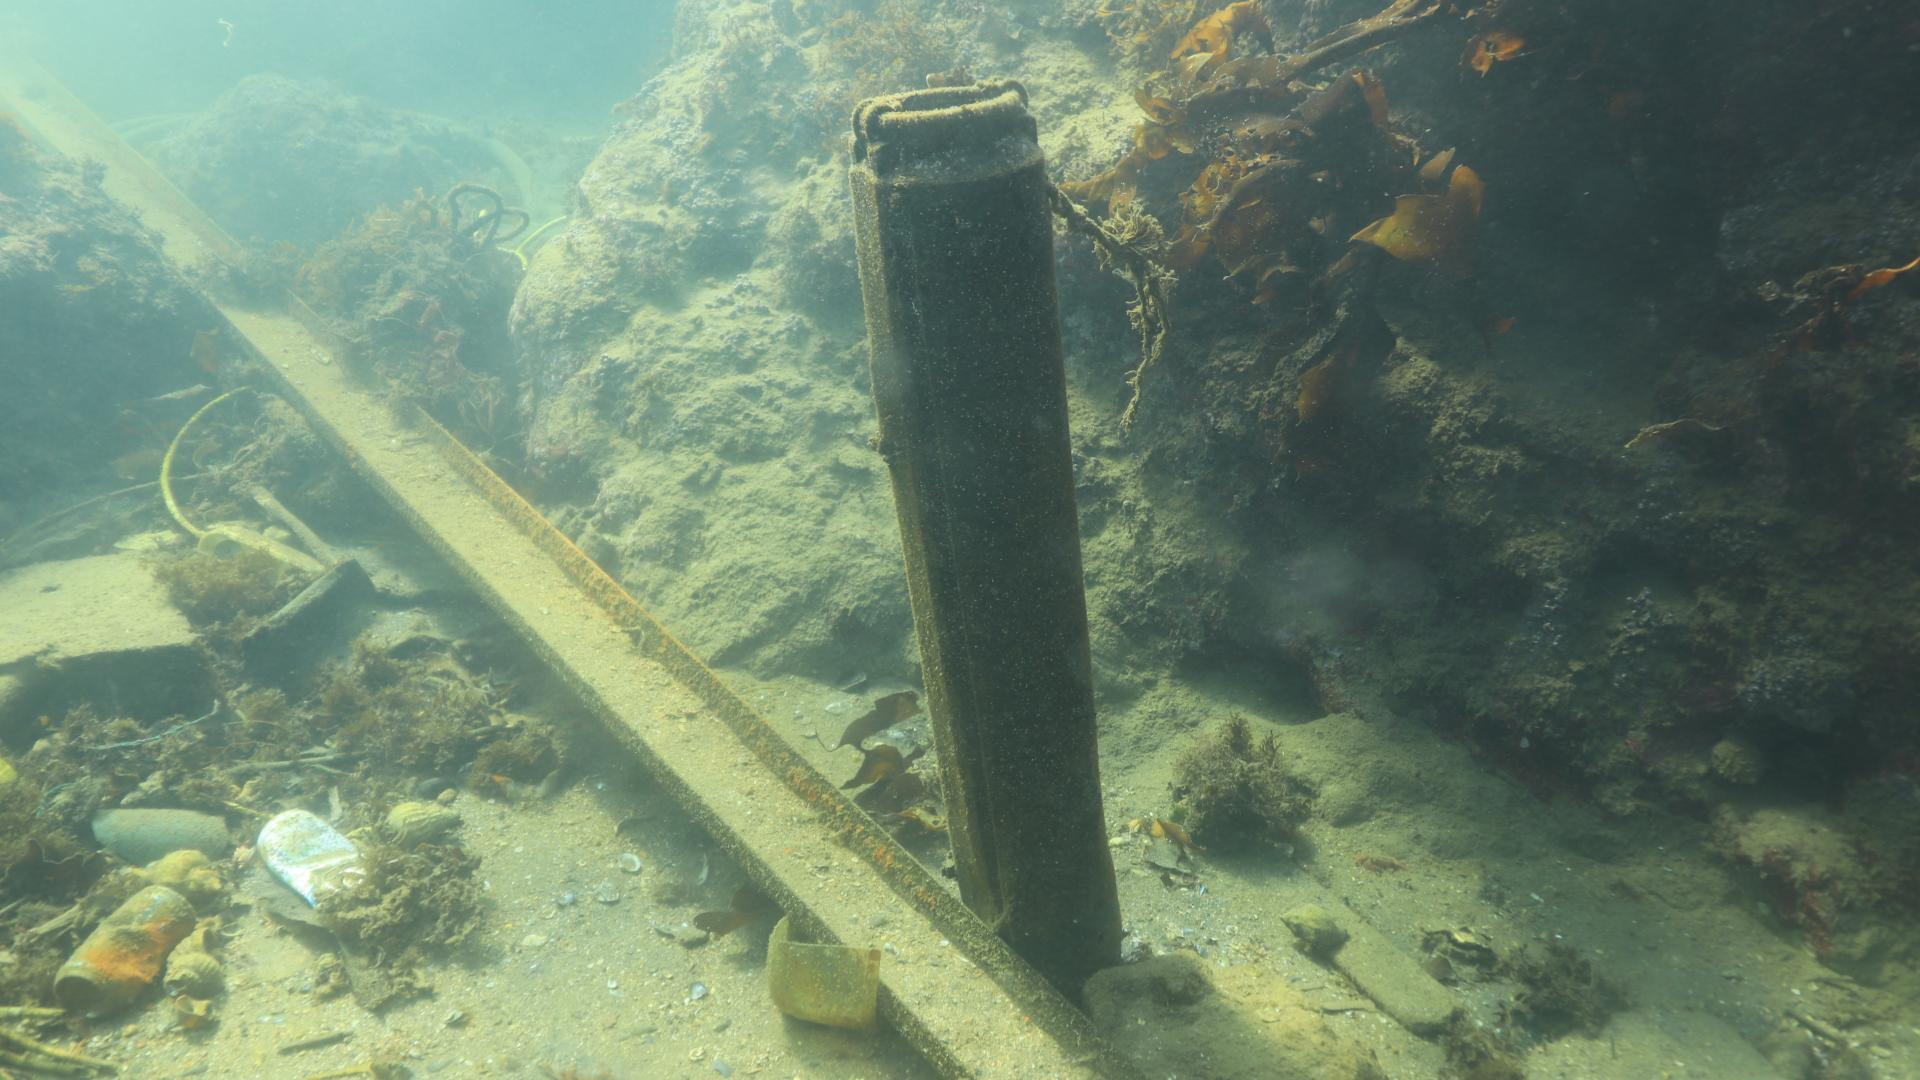eel fish trap: (847, 83, 1127, 992)
